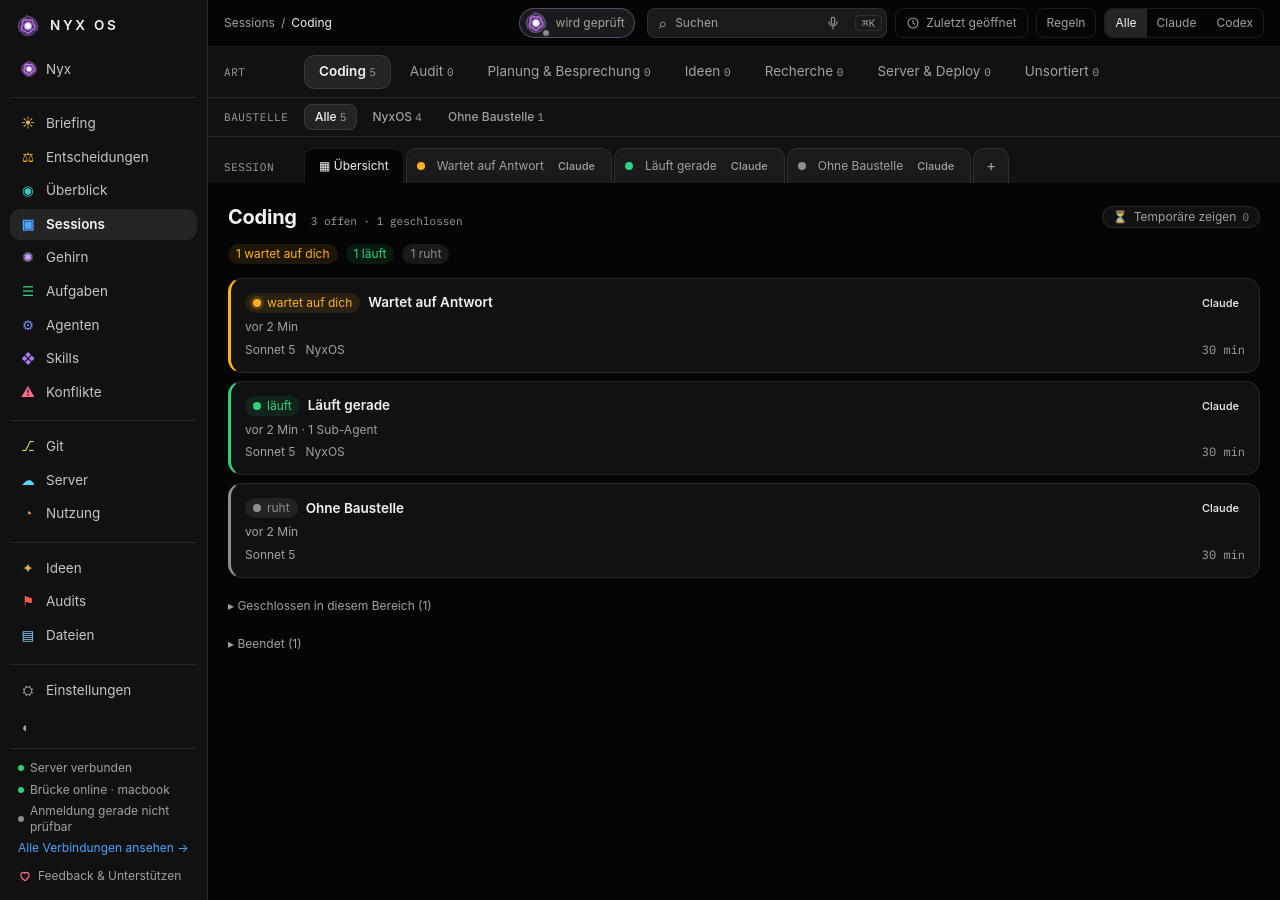
Test: Sessions-Tab: BAUSTELLE-Zeile — „Alle“ vs. „Ohne Baustelle“ › Klick auf „Ohne Baustelle“ wählt NUR diesen Tab aus und filtert auf Sessions ohne Baustelle
expect the list named "Sessions in" is shown: met, box [228, 278, 1260, 578]
Click the tab "Ohne Baustelle 1".
click(496, 117)  # box [437, 104, 555, 130]
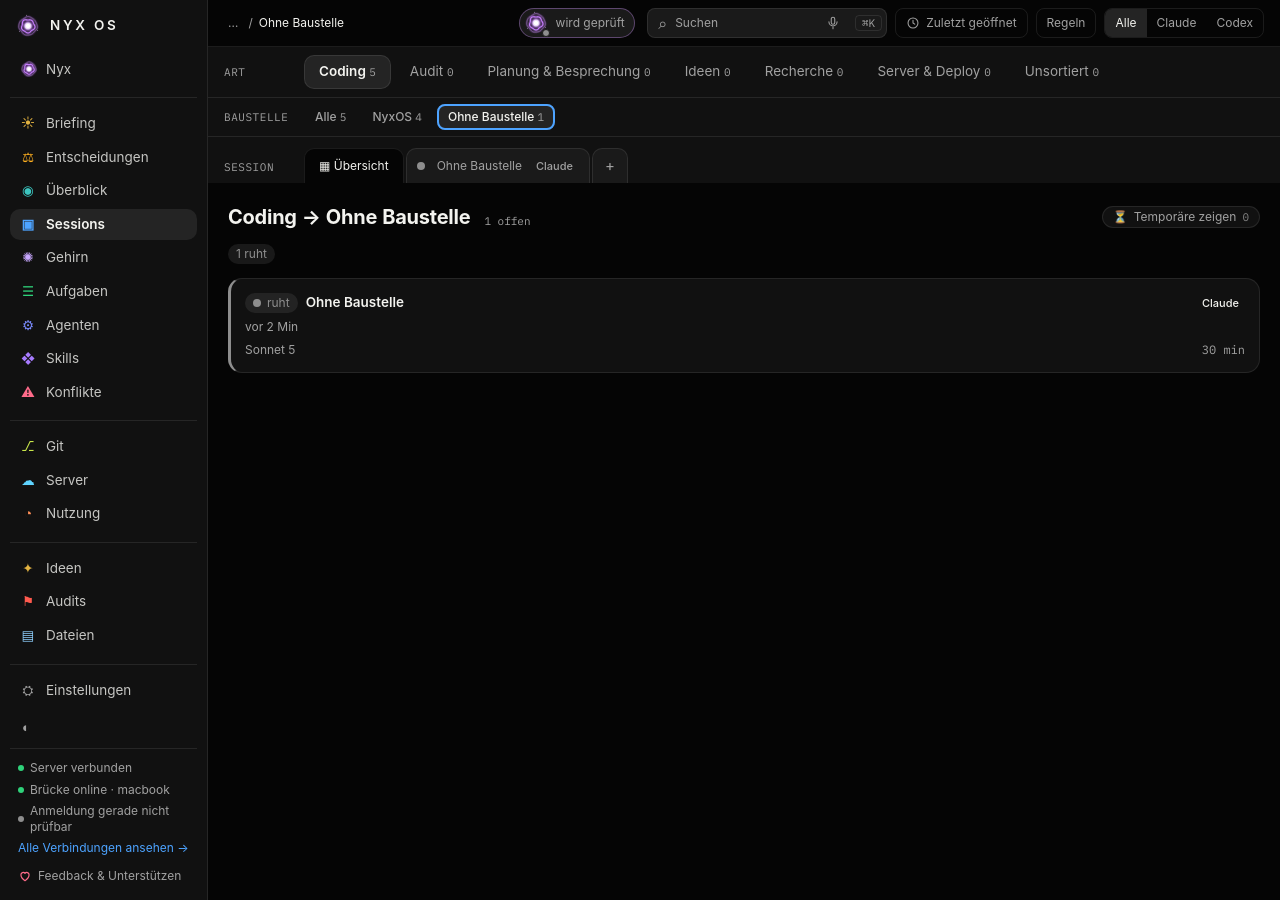
expect the text "Ohne Baustelle" below "Coding → Ohne Baustelle" is shown: met, box [306, 294, 404, 310]
expect the text "Ohne Baustelle" in the row of "⌘K" is shown: met, box [259, 15, 344, 30]
expect the tab "Wartet auf Antwort" is gone: met
